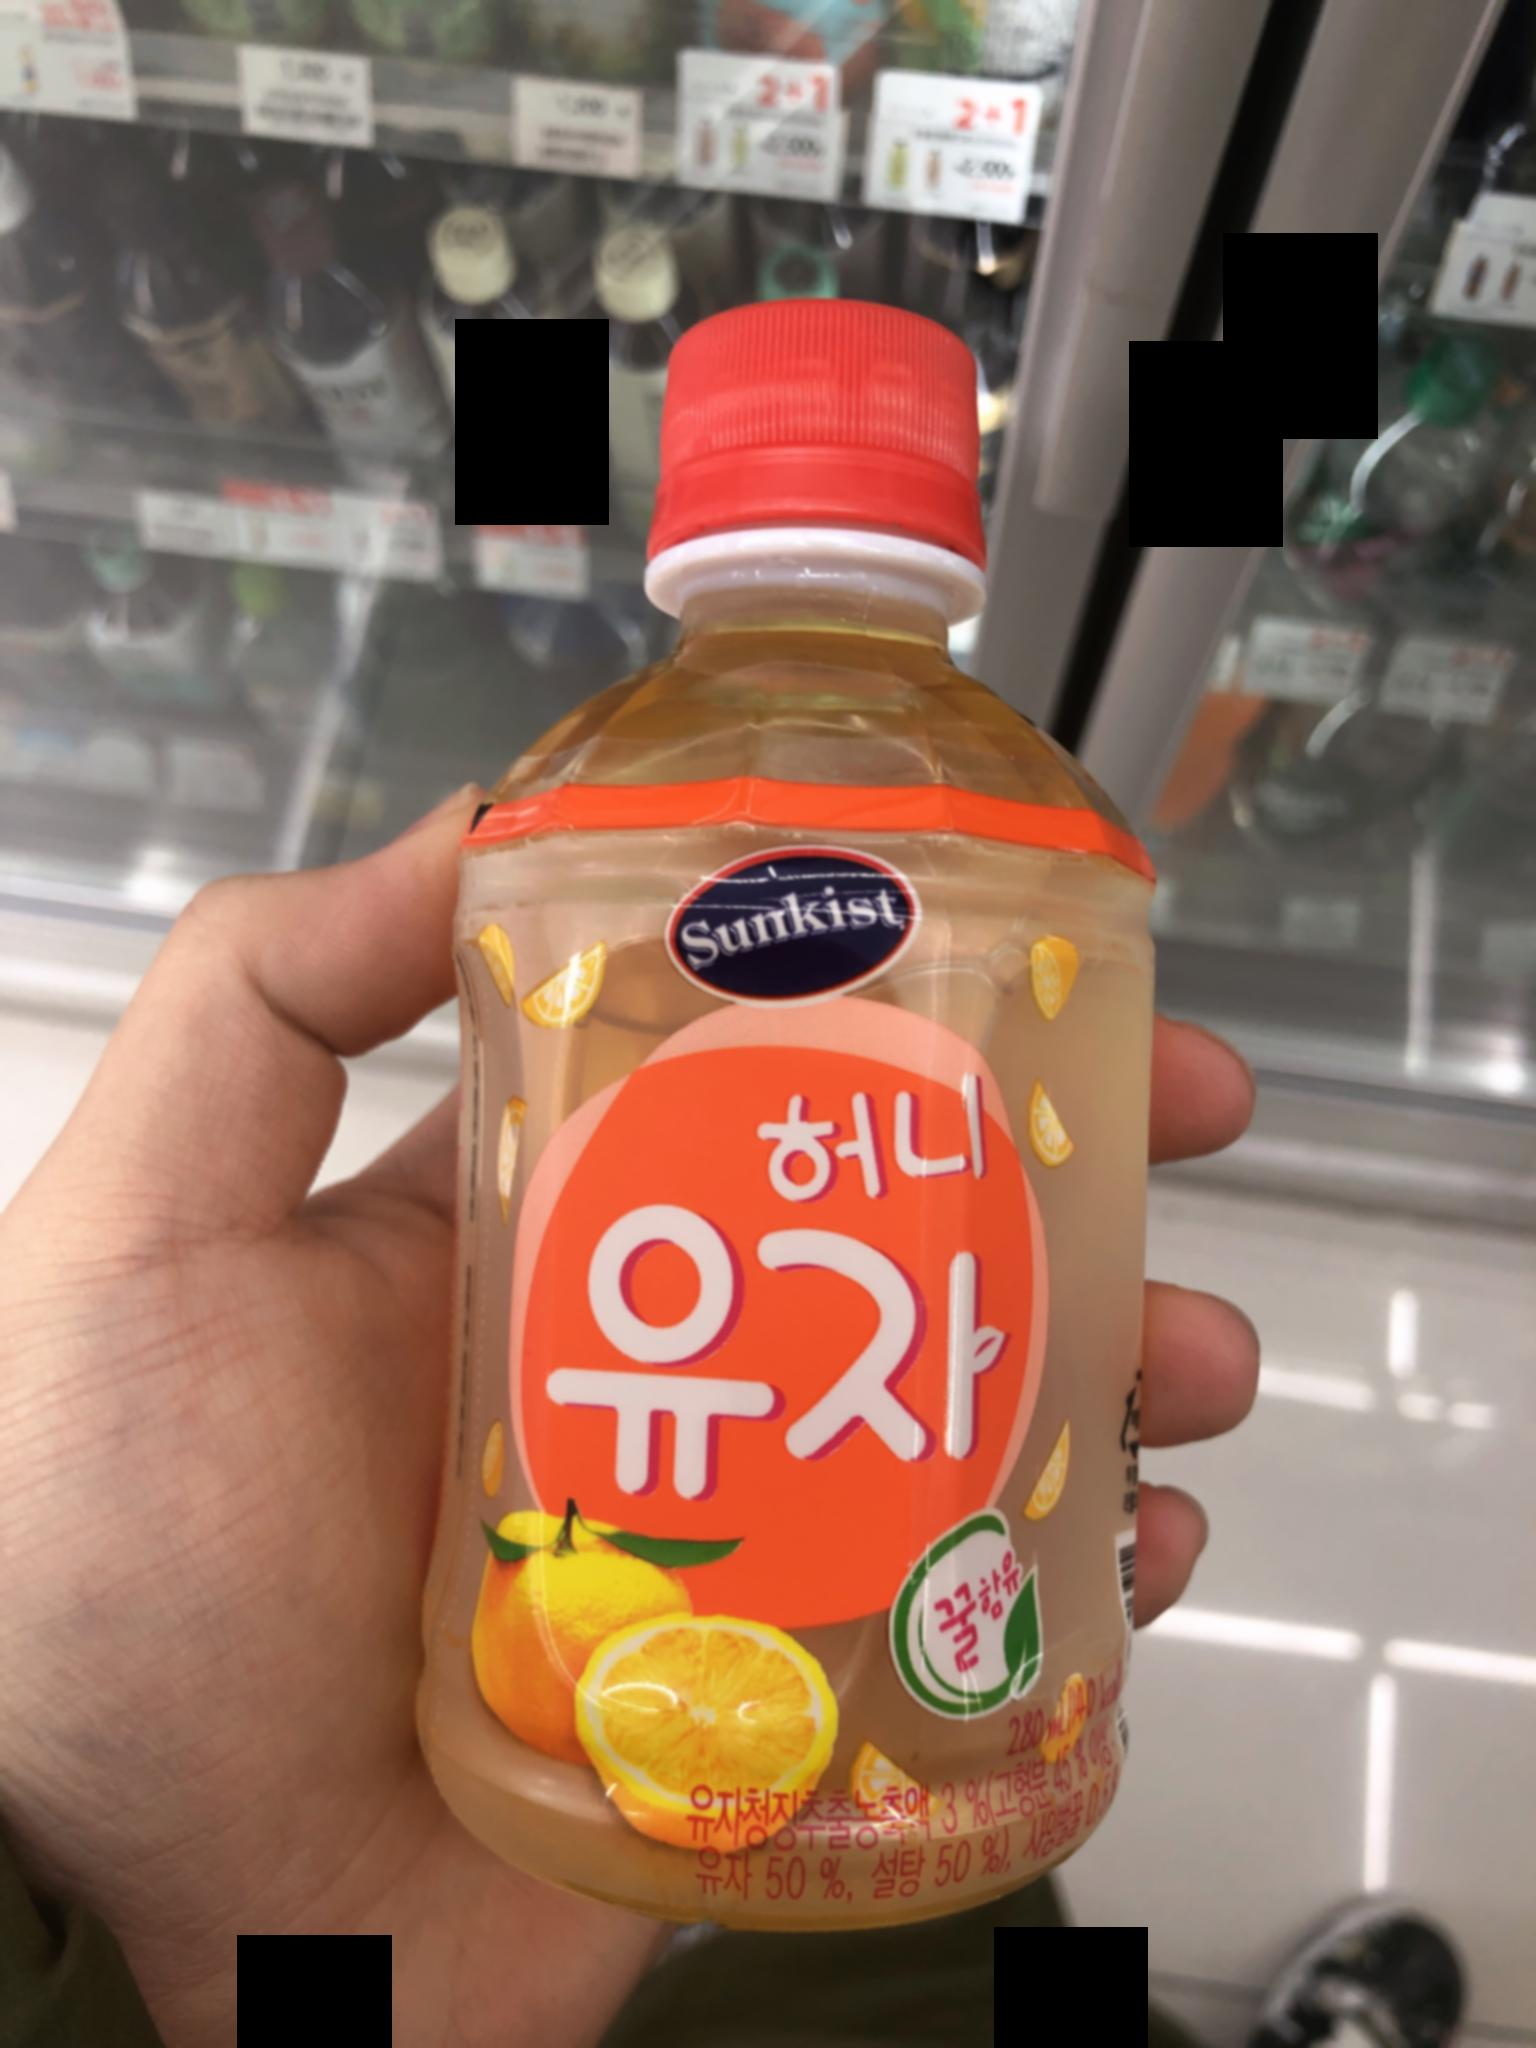honeyyuja: (344, 256, 1275, 1945)
